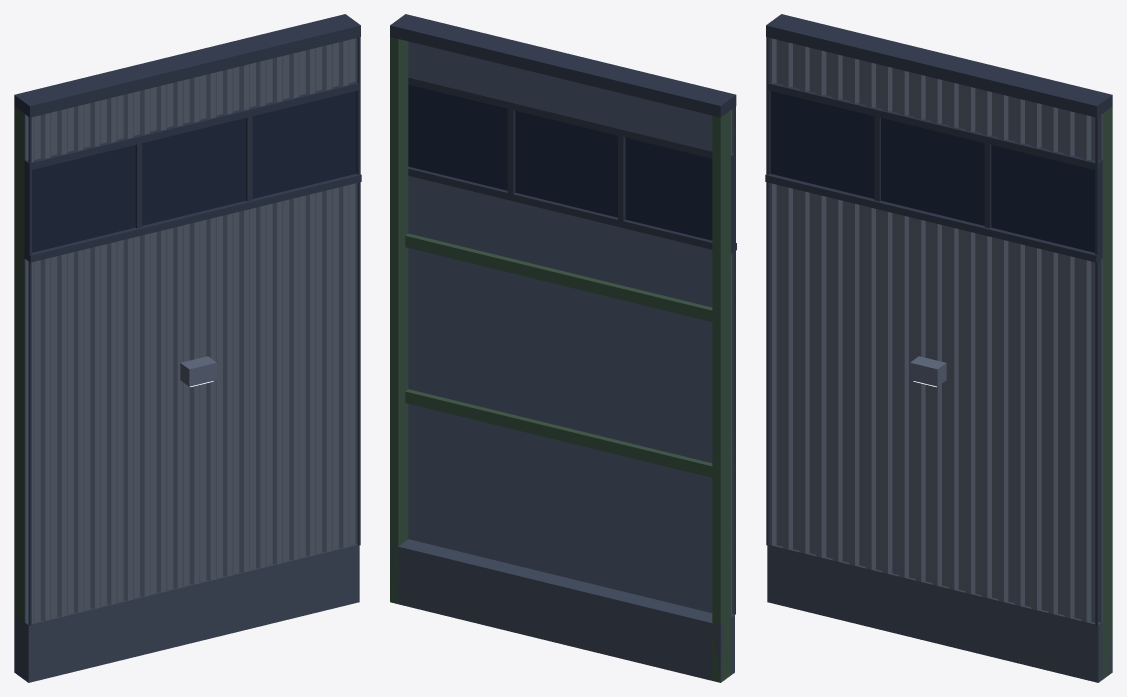
The model's file is port_warehouse_shell_panel.glb.
3 views of the same model, side by side, from view 1: azimuth 30°, elevation 25°; view 2: azimuth 150°, elevation 25°; view 3: azimuth 330°, elevation 25° (orthographic).
Parts seen in each view (by area): view 1: cladding, window, trim, plinth, column, liner, wall_lamp; view 2: liner, column, window, plinth, trim, cladding; view 3: cladding, window, trim, plinth, column, liner, wall_lamp.
Part boxes in pixels (x1,y1,x2,y2): cladding: (31,38,357,624); window: (32,91,356,252); trim: (14,14,361,625); plinth: (14,544,359,682); column: (14,106,24,669); liner: (24,114,28,622); wall_lamp: (180,356,216,386); liner: (408,41,731,617); column: (390,37,730,682); window: (408,84,712,240); plinth: (390,539,734,681); trim: (390,14,736,614); cladding: (732,108,734,614); cladding: (769,38,1095,622); window: (770,91,1094,252); trim: (765,14,1112,625); plinth: (767,545,1112,682); column: (1102,106,1112,679); liner: (1098,114,1102,622); wall_lamp: (910,356,946,386).
Size of the model in its own units: 6 by 10 by 0.73.
